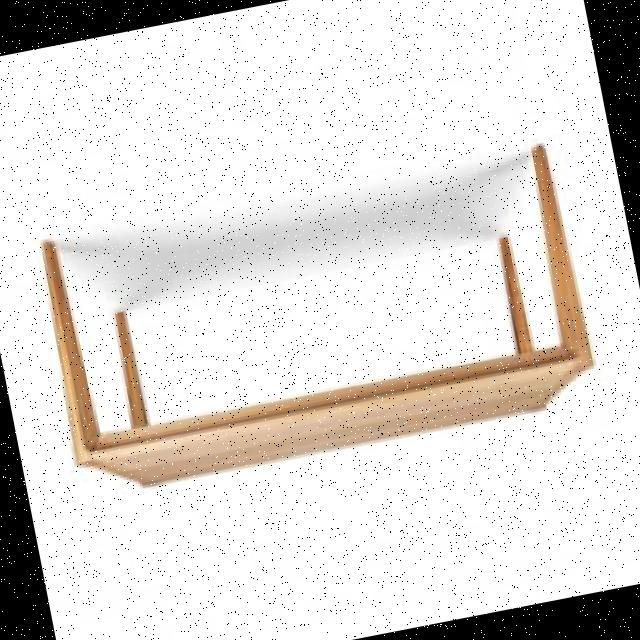Table: (22, 120, 616, 514)
